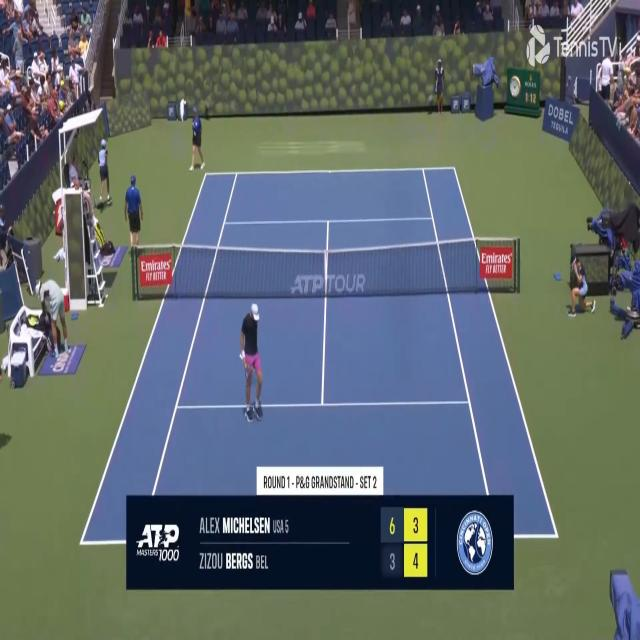tennis-player: (236, 299, 266, 427)
